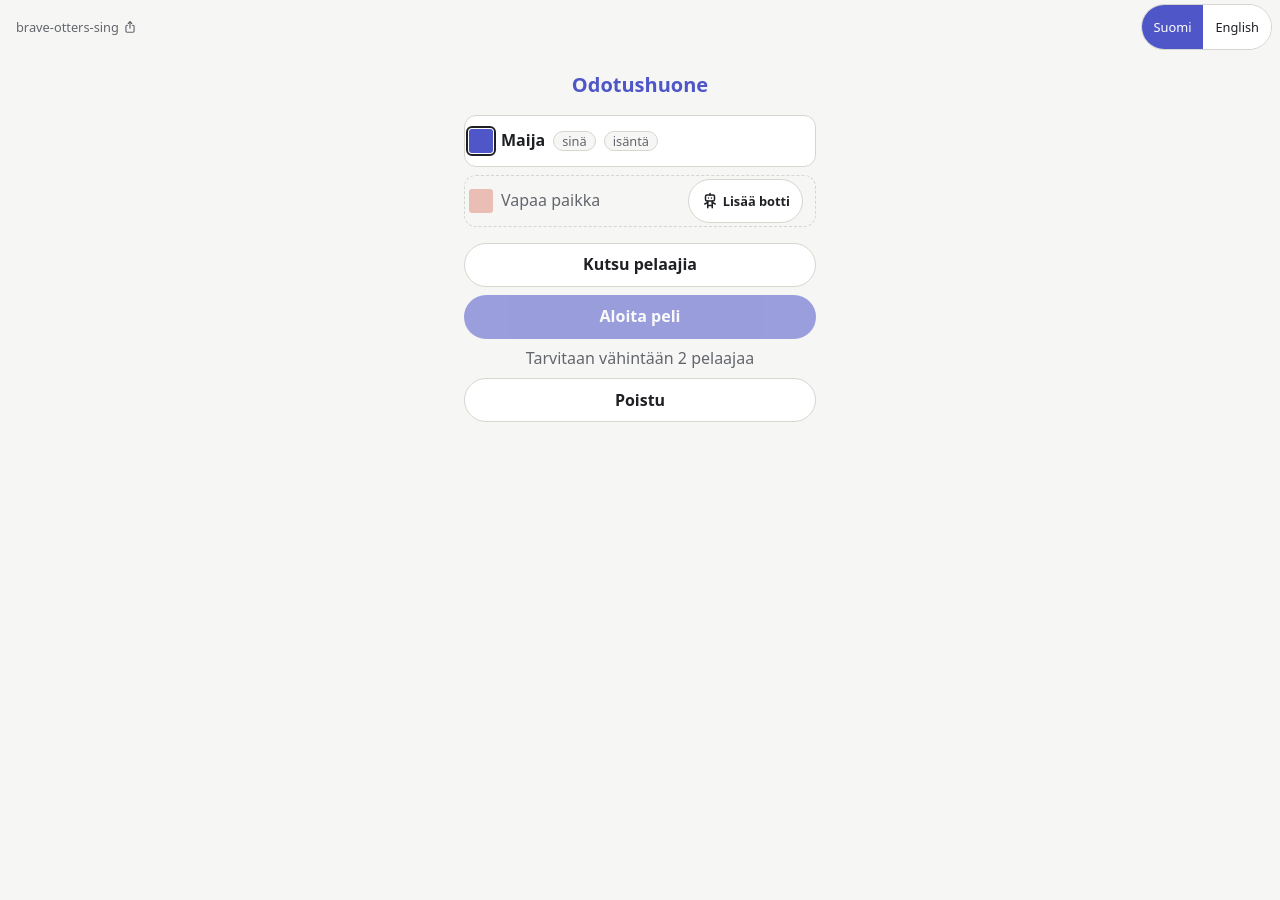
Test case: lobby › Waiting room › without a share sheet the link is copied and the screen says so
This screenshot has width=1280, height=900.
Click the button "Kutsu pelaajia" at (640, 265), box [464,243,816,287]
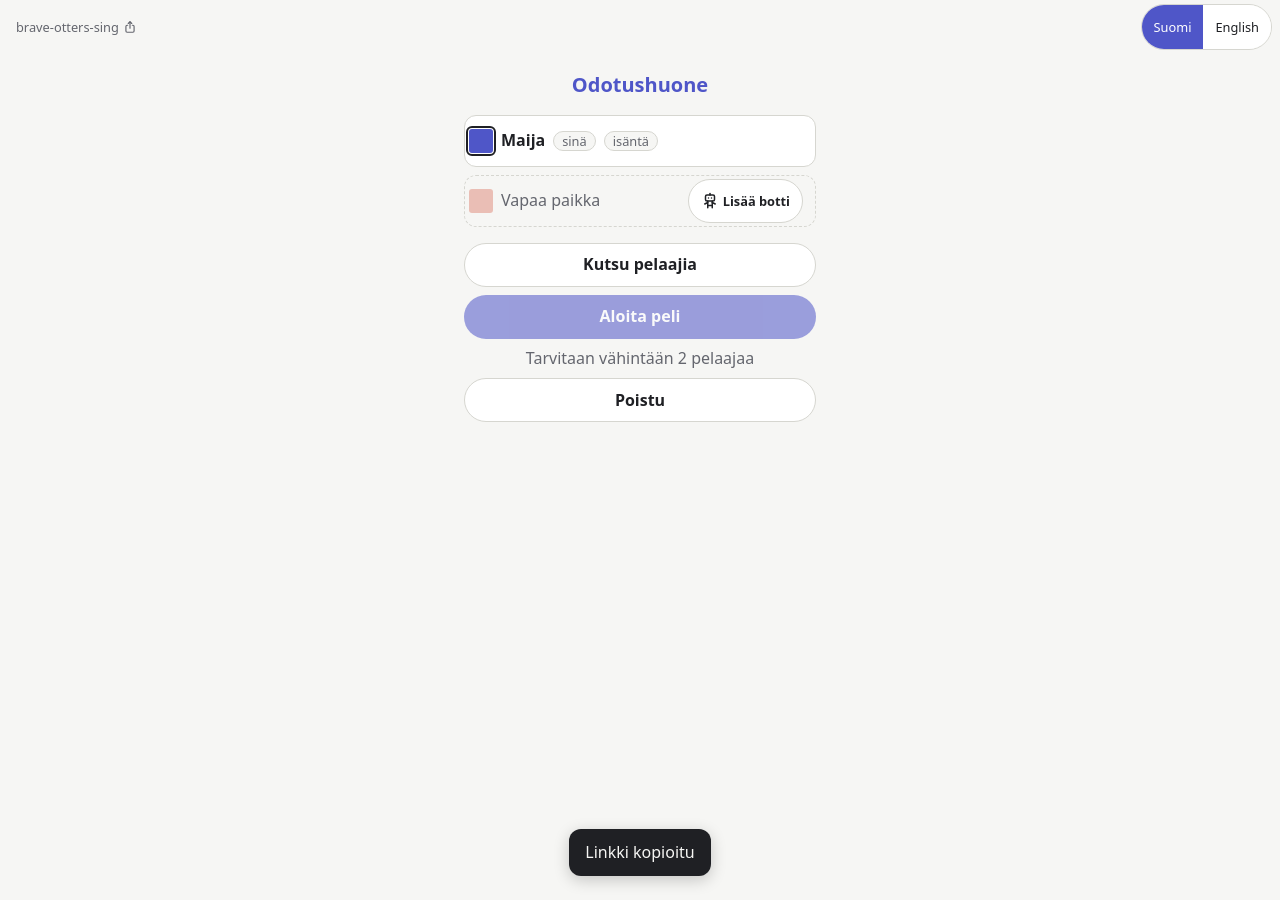
expect the text "Linkki kopioitu" is shown: met, box [569,829,711,876]
